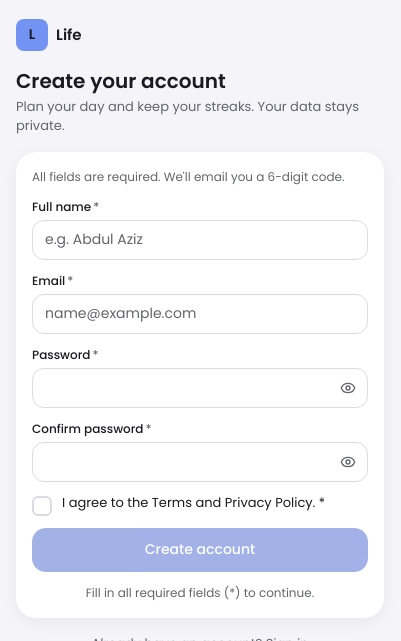
Test case: Sign-up form › explains errors after a field is left, including a confirm mismatch
Type "not-an-email" into the field labelled "Email*".
click(200, 314); type("not-an-email")  # box [32, 294, 368, 334]
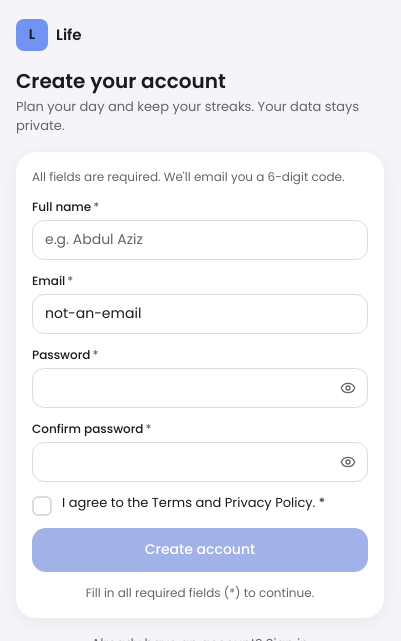
Leave the field labelled "Email*", box [32, 294, 368, 334]
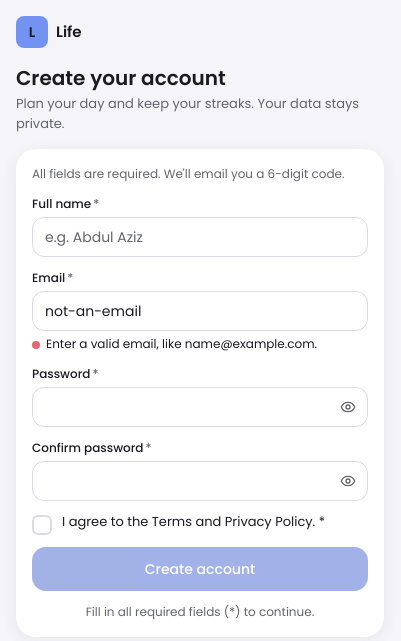
Now the text "Enter a valid email, like name@example.com." is shown, box [32, 335, 317, 352]
Type "Str0ng!pass" into the password field labelled "Password*".
click(200, 407); type("Str0ng!pass")  # box [32, 387, 368, 427]
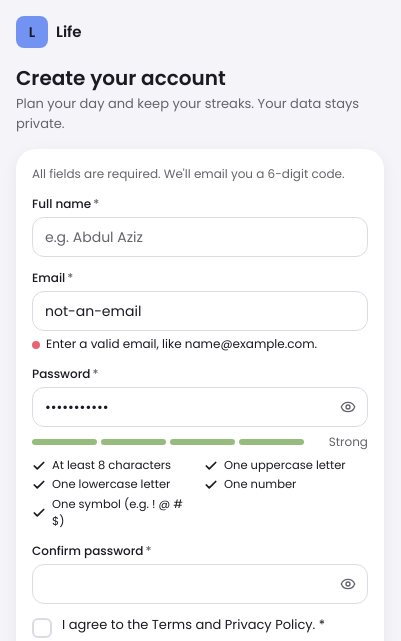
Type "Str0ng!pasz" into the password field labelled "Confirm password*".
click(200, 584); type("Str0ng!pasz")  # box [32, 564, 368, 604]
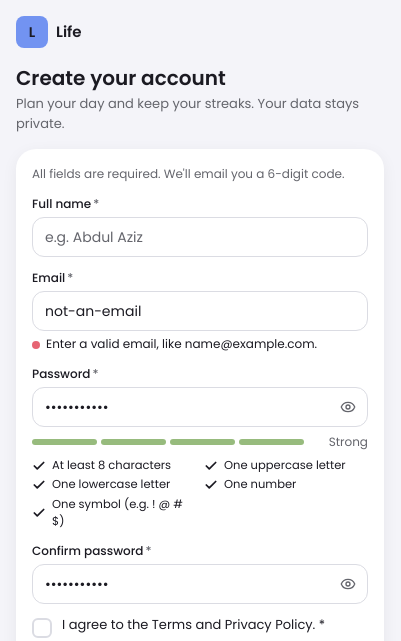
Leave the password field labelled "Confirm password*", box [32, 564, 368, 604]
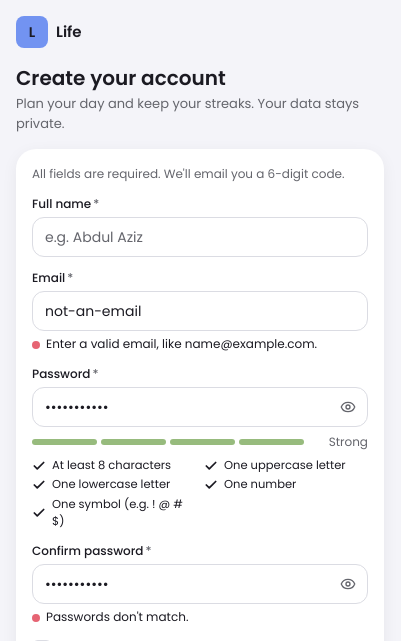
Now the text "Passwords don't match." is shown, box [32, 608, 188, 625]
